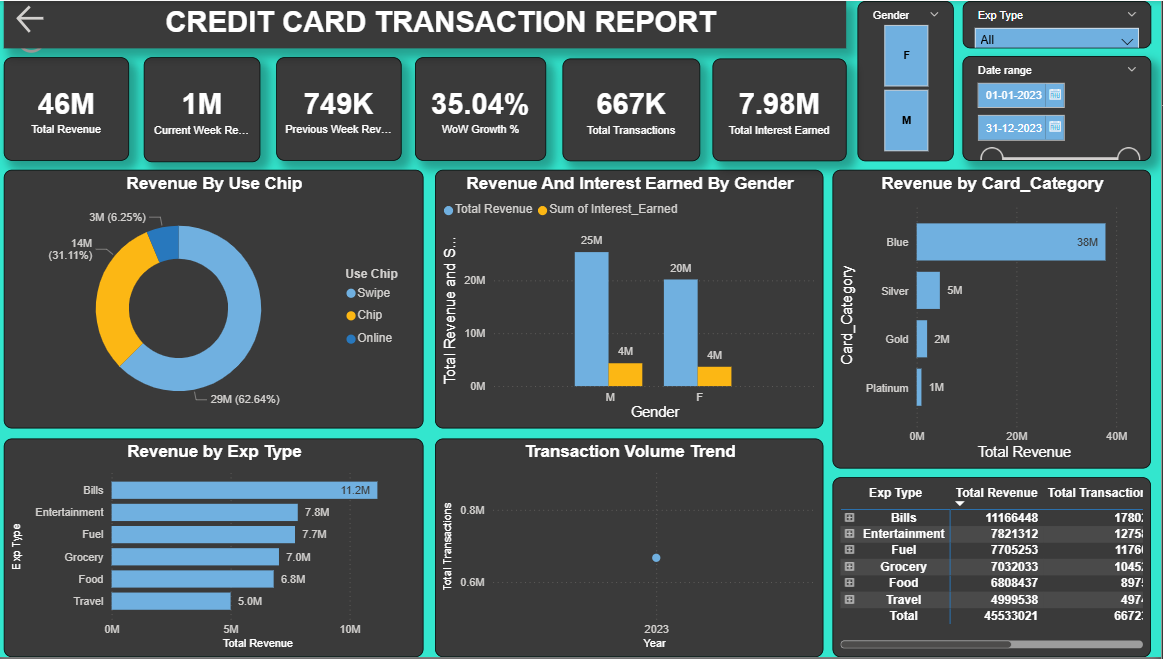

This screenshot's page, from the dashboard's own definition file:
{"tool":"powerbi","page":{"name":"Transaction report","canvas":[1280,720],"ordinal":1},"visuals":[{"type":"card","fields":{"Values":["CreditCard.Total Revenue"]},"box":[24.7,61.7,137.2,113.9],"z":0},{"type":"card","fields":{"Values":["CreditCard.Current Week Revenue"]},"box":[175.6,60.4,127.6,115.3],"z":1000},{"type":"card","fields":{"Values":["CreditCard.Previous Week Revenue"]},"box":[318.4,61.7,137.2,113.9],"z":2000},{"type":"card","fields":{"Values":["CreditCard.WoW Growth %"]},"box":[470.7,61.7,144.1,113.9],"z":3000},{"type":"slicer","fields":{"Values":["CreditCard.Week_Start_Date"]},"box":[1062.1,63.1,207.2,122.1],"z":5000},{"type":"card","fields":{"Values":["CreditCard.Total Transactions"]},"box":[627.1,63.1,146.8,112.5],"z":6000},{"type":"actionButton","box":[18.5,20,51.3,41.3],"z":7000},{"type":"textbox","box":[19.2,0,915.3,52.1],"z":9000},{"type":"actionButton","box":[18.5,0,51.3,39.9],"z":10000},{"type":"clusteredBarChart","title":"Revenue by Exp Type","fields":{"Category":["CreditCard.Exp Type"],"Y":["CreditCard.Total Revenue"]},"box":[24.7,480.3,446,240.1],"z":11000},{"type":"clusteredColumnChart","title":" Revenue And Interest Earned By Gender","fields":{"Y":["CreditCard.Total Revenue","Sum(CreditCard.Interest_Earned)"],"Category":["customer.Gender"]},"box":[483,185.2,426.8,284],"z":12000},{"type":"lineChart","title":"Transaction Volume Trend","fields":{"Y":["CreditCard.Total Transactions"],"Category":["CreditCard.Week_Start_Date.Variation.Date Hierarchy.Year","CreditCard.Week_Start_Date.Variation.Date Hierarchy.Quarter","CreditCard.Week_Start_Date.Variation.Date Hierarchy.Month","CreditCard.Week Num"]},"box":[483,480.3,426.8,240.1],"z":13000},{"type":"slicer","fields":{"Values":["CreditCard.Exp Type"]},"box":[1062.1,0,207.2,60.4],"z":14000},{"type":"slicer","fields":{"Values":["customer.Gender"]},"box":[946.8,5.5,105.7,170.2],"z":15000},{"type":"donutChart","title":"Revenue By Use Chip","fields":{"Category":["CreditCard.Use Chip"],"Y":["CreditCard.Total Revenue"]},"box":[24.7,185.2,446,278.6],"z":16000},{"type":"card","fields":{"Values":["CreditCard.Total Interest Earned"]},"box":[787.7,63.1,146.8,112.5],"z":17000},{"type":"barChart","title":" Revenue by Card_Category","fields":{"Y":["CreditCard.Total Revenue"],"Category":["CreditCard.Card_Category"]},"box":[919.4,185.2,349.9,319.7],"z":18000},{"type":"pivotTable","fields":{"Rows":["CreditCard.Exp Type","CreditCard.Card_Category","CreditCard.Client_Num"],"Values":["CreditCard.Total Revenue","CreditCard.Total Transactions","CreditCard.Total Interest Earned"]},"box":[919.4,522.8,349.9,197.6],"z":19000}]}

Visuals, with their boxes in screenshot pixels (x1, y1, x2, y2), scaled from the page's 1280x720 canvas onto the 1163x659 screenshot:
card - CreditCard.Total Revenue: pyautogui.locateOnScreen(22, 56, 147, 161)
card - CreditCard.Current Week Revenue: pyautogui.locateOnScreen(160, 55, 275, 161)
card - CreditCard.Previous Week Revenue: pyautogui.locateOnScreen(289, 56, 414, 161)
card - CreditCard.WoW Growth %: pyautogui.locateOnScreen(428, 56, 559, 161)
slicer - CreditCard.Week_Start_Date: pyautogui.locateOnScreen(965, 58, 1153, 170)
card - CreditCard.Total Transactions: pyautogui.locateOnScreen(570, 58, 703, 161)
actionButton: pyautogui.locateOnScreen(17, 18, 63, 56)
textbox: pyautogui.locateOnScreen(17, 0, 849, 48)
actionButton: pyautogui.locateOnScreen(17, 0, 63, 37)
"Revenue by Exp Type" clusteredBarChart: pyautogui.locateOnScreen(22, 440, 428, 658)
" Revenue And Interest Earned By Gender" clusteredColumnChart: pyautogui.locateOnScreen(439, 170, 827, 429)
"Transaction Volume Trend" lineChart: pyautogui.locateOnScreen(439, 440, 827, 658)
slicer - CreditCard.Exp Type: pyautogui.locateOnScreen(965, 0, 1153, 55)
slicer - customer.Gender: pyautogui.locateOnScreen(860, 5, 956, 161)
"Revenue By Use Chip" donutChart: pyautogui.locateOnScreen(22, 170, 428, 425)
card - CreditCard.Total Interest Earned: pyautogui.locateOnScreen(716, 58, 849, 161)
" Revenue by Card_Category" barChart: pyautogui.locateOnScreen(835, 170, 1153, 462)
pivotTable - CreditCard.Exp Type x CreditCard.Card_Category: pyautogui.locateOnScreen(835, 479, 1153, 658)
